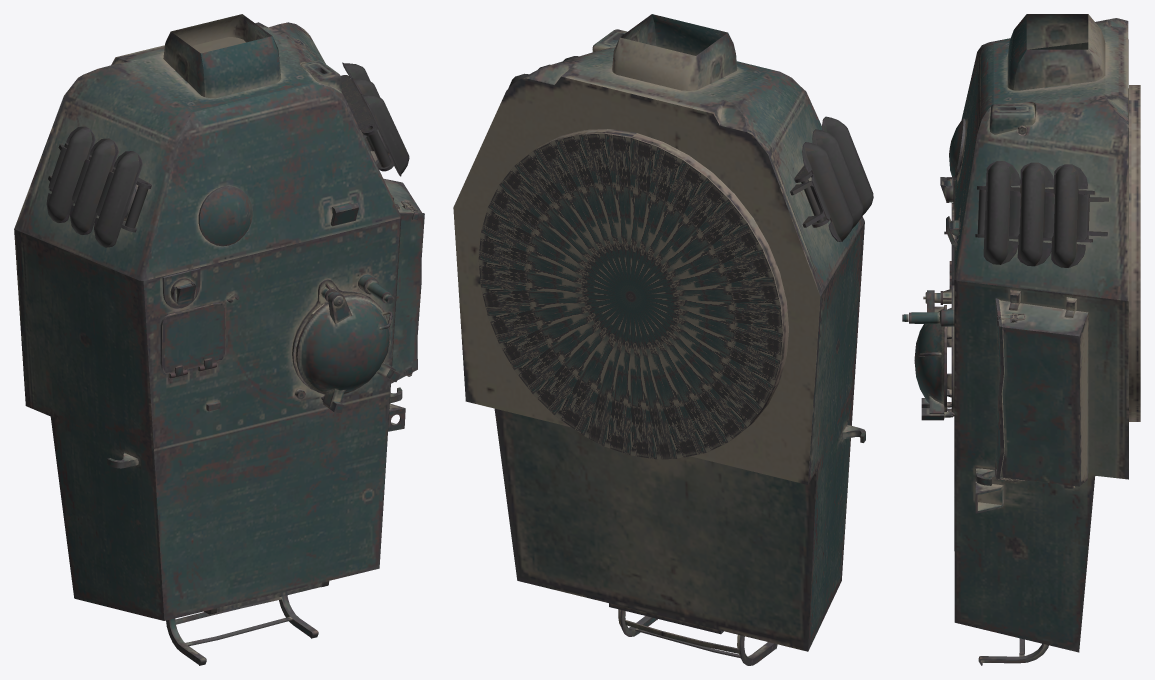
File: Turret_02.glb
3 views of the same model, side by side, from view 1: azimuth 30°, elevation 25°; view 2: azimuth 150°, elevation 25°; view 3: azimuth 270°, elevation 25° (orthographic). The views are drawn at different scales.
Visible parts, largest first — view 1: set_0_group_0; view 2: set_0_group_0; view 3: set_0_group_0.
Part boxes in pixels (x1=…): set_0_group_0: x1=14, y1=14, x2=424, y2=665; set_0_group_0: x1=453, y1=14, x2=873, y2=665; set_0_group_0: x1=902, y1=14, x2=1140, y2=665.
Size of the model in its own units: 2.46 by 3.81 by 1.36.
1 material, 1 textured.
